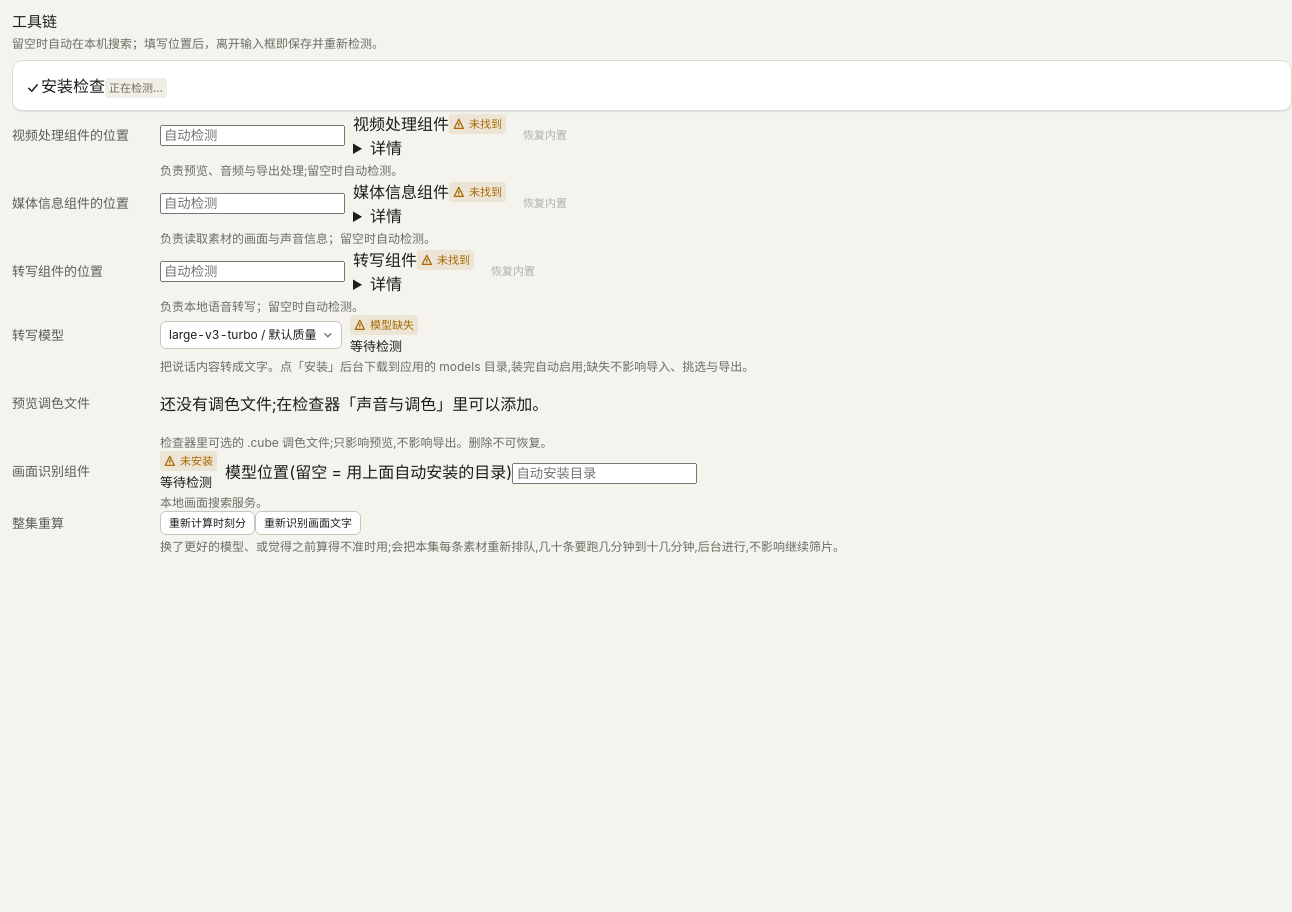
Scenario: 整集重算(A16-04) › 后端拒绝 → 失败白话进 toast
Step 1. Click the button "重新计算时刻分" → {"x": 208, "y": 523}, box [160,511,255,535]
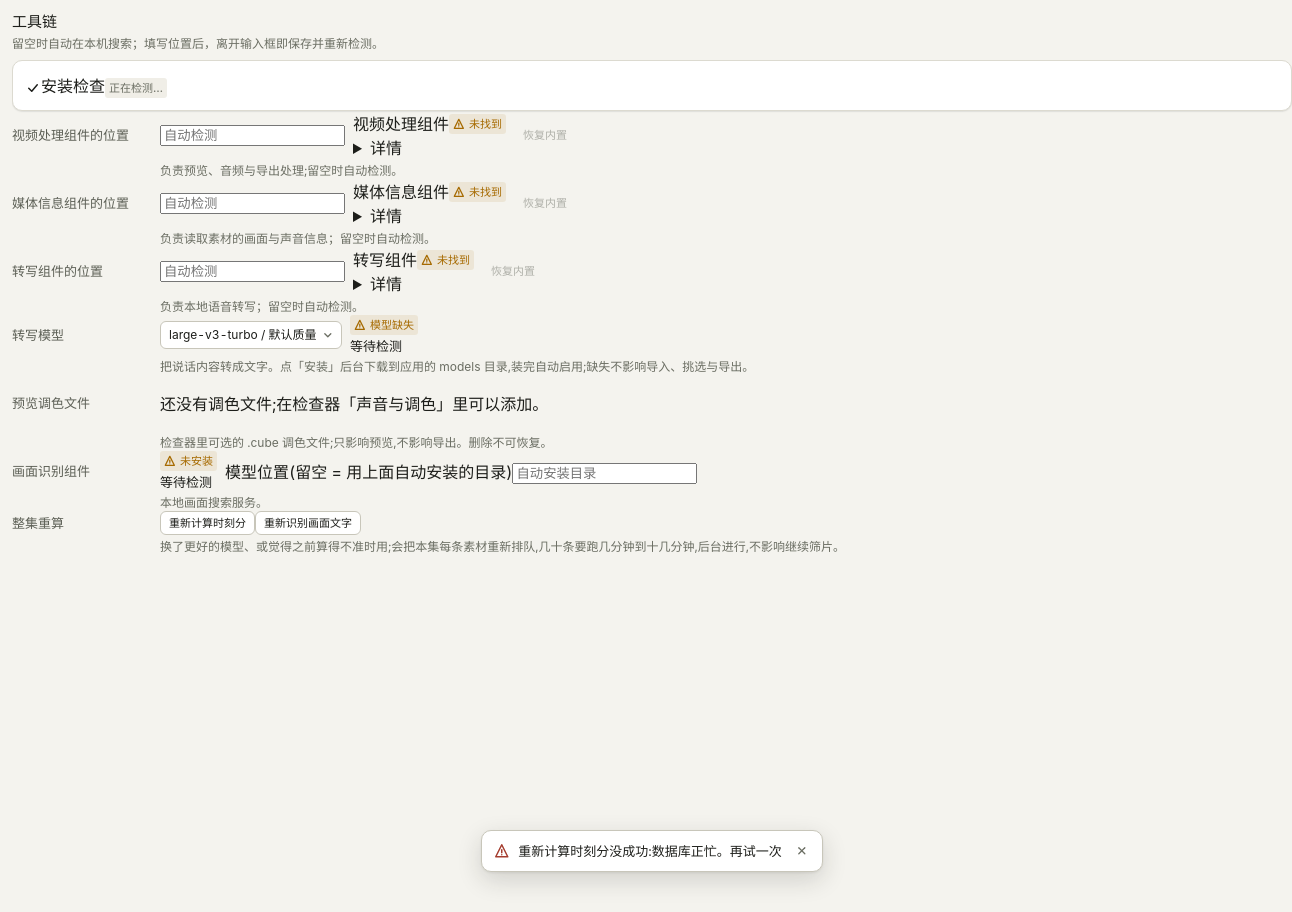
Now the message shows "数据库正忙", box [518,843,782,859]
